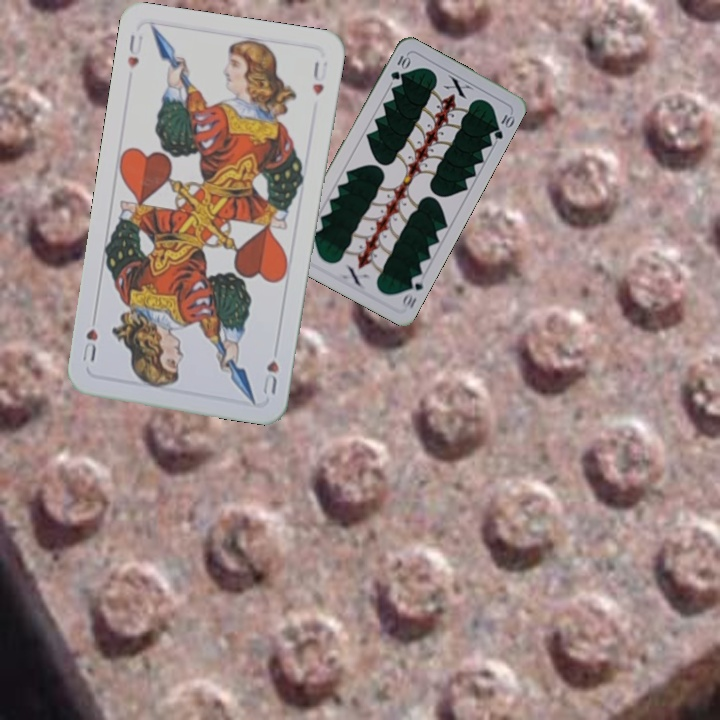G10: (398, 271, 426, 311), (386, 51, 412, 82)
HU: (259, 356, 282, 397), (123, 30, 145, 71)
